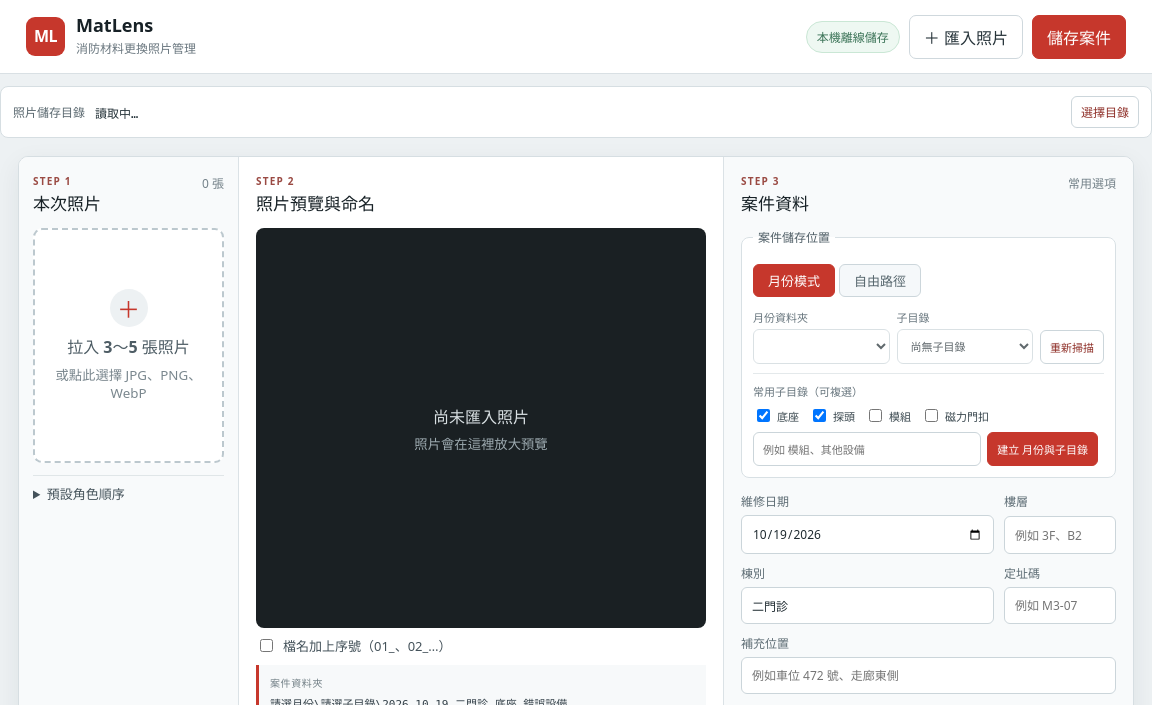
照片拖放 › 自由路徑案件掃描使用目前選擇的子目錄
This screenshot has width=1152, height=705.
Click the tab "自由路徑": (880, 280) 839,264 -> 921,297
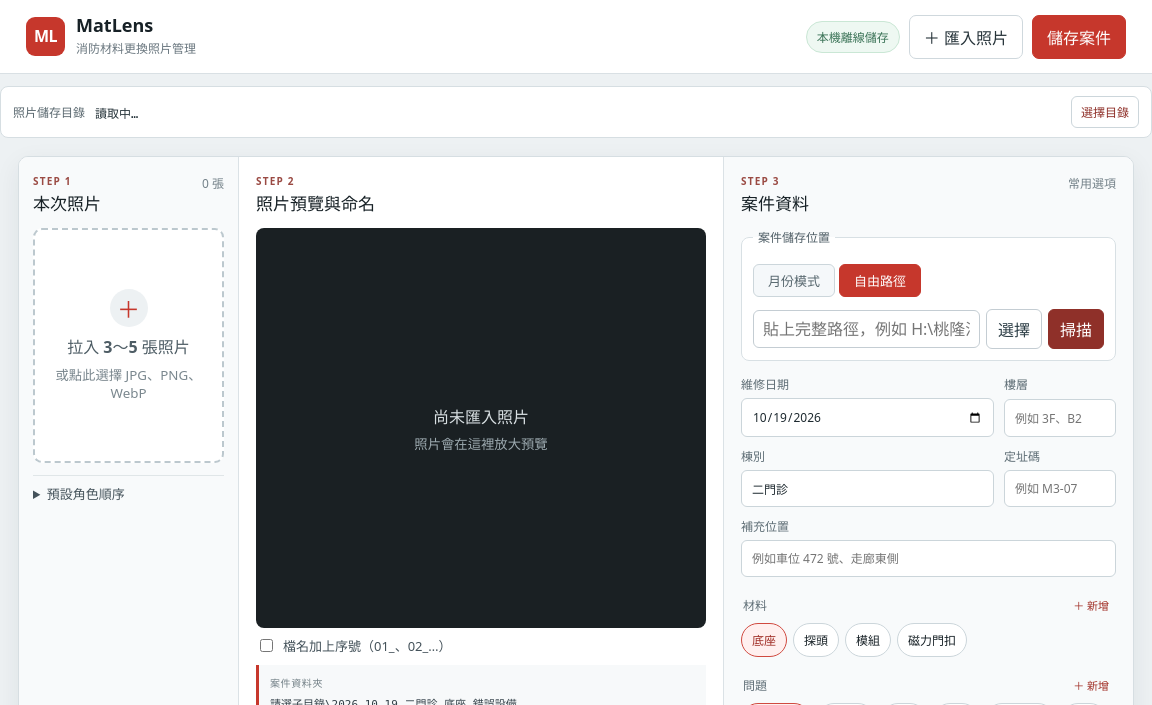
In the field named "掃描路徑": (866, 329) 753,310 -> 980,348, type "C:\\現場照片"
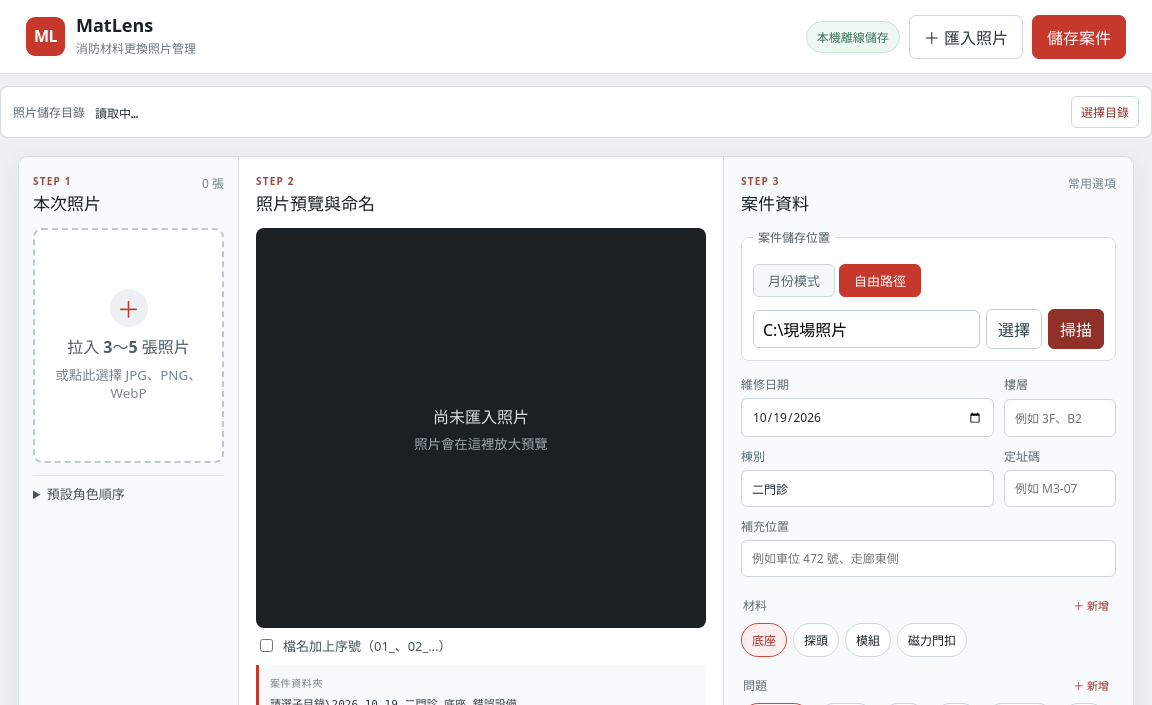
Click the button "掃描": (1076, 329) 1048,309 -> 1104,349
(page scrolled)
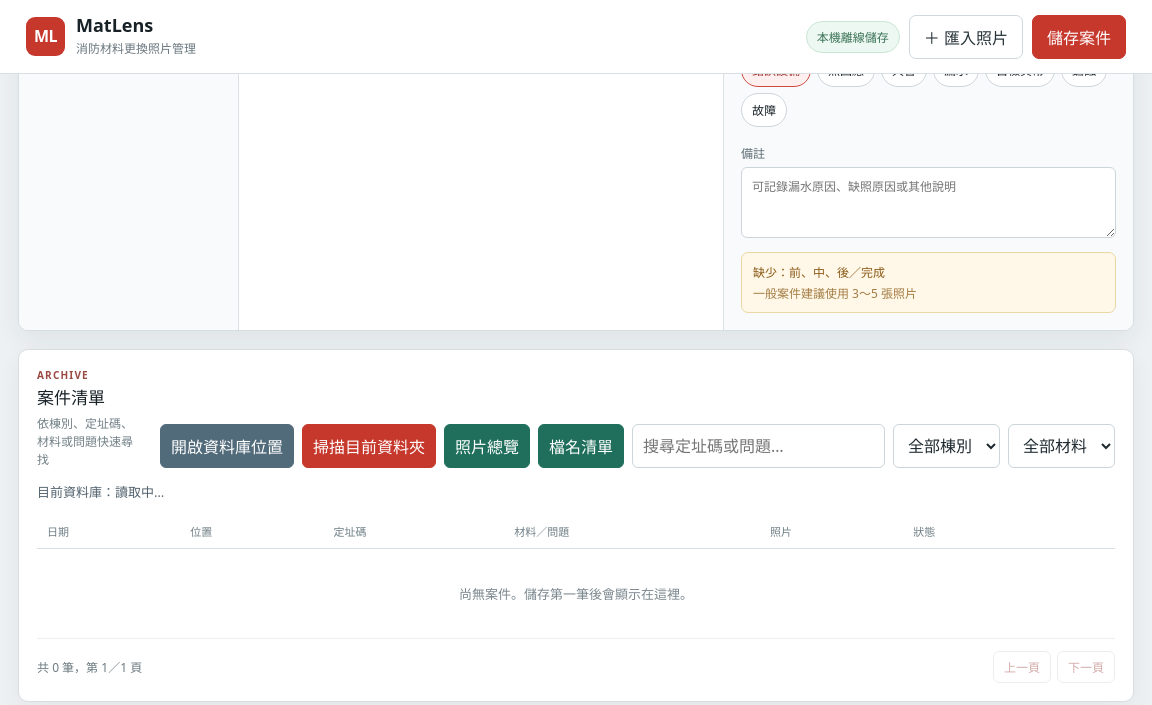
Click the button "掃描目前資料夾": (369, 446) 302,424 -> 436,468
(page scrolled)
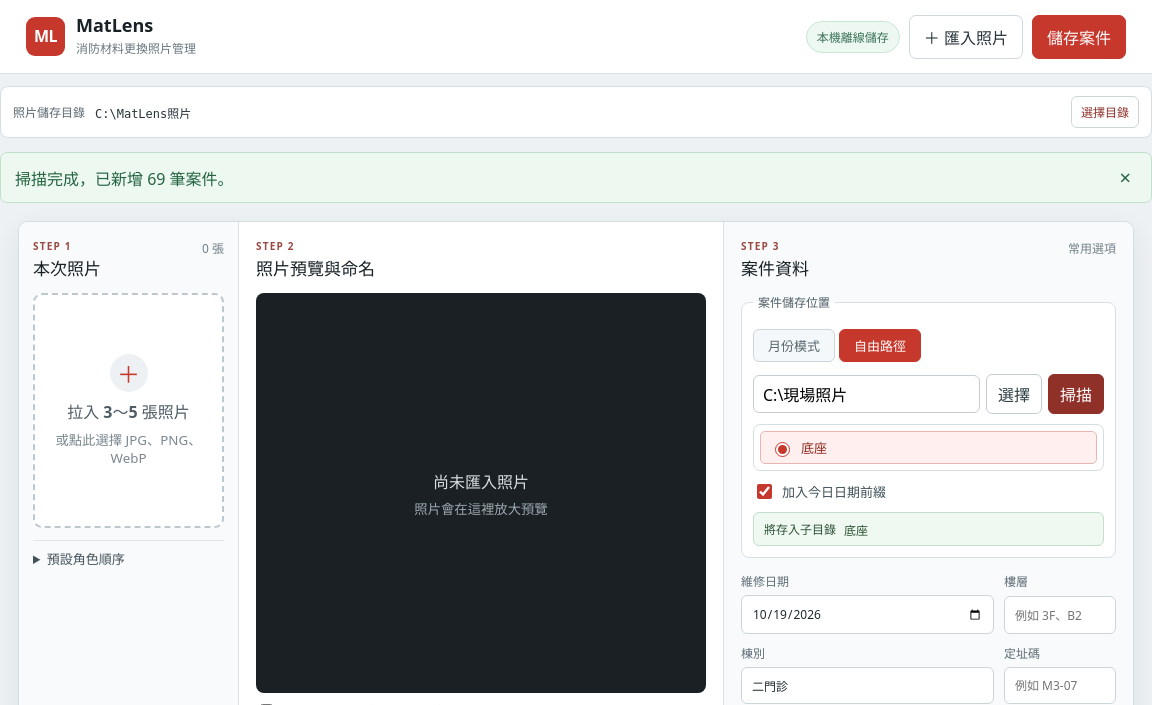
Result: the text "掃描完成，已新增 69 筆案件。" is shown at 15,166 -> 234,190
